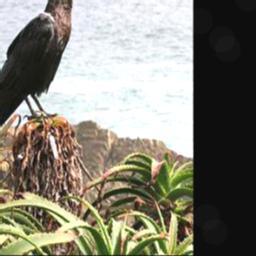Crow: (0, 0, 84, 139)
